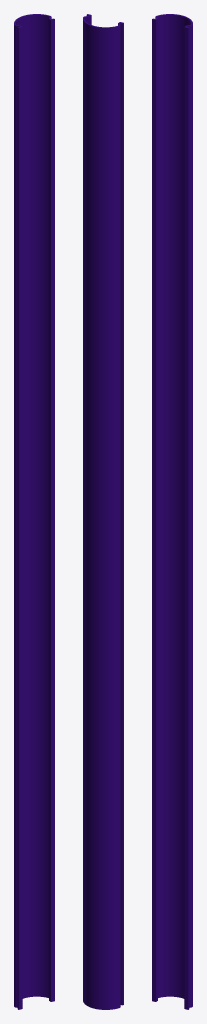
3 views of the same model, side by side, from view 1: azimuth 30°, elevation 25°; view 2: azimuth 150°, elevation 25°; view 3: azimuth 330°, elevation 25° (orthographic).
Parts seen in each view (by area): view 1: _______________PC_1; view 2: _______________PC_1; view 3: _______________PC_1.
Part boxes in pixels (x1=…): _______________PC_1: x1=14, y1=14, x2=54, y2=1009; _______________PC_1: x1=83, y1=14, x2=123, y2=1009; _______________PC_1: x1=152, y1=14, x2=192, y2=1009.
Bounding box in the file's own units: 23.39 × 600 × 12.65.
